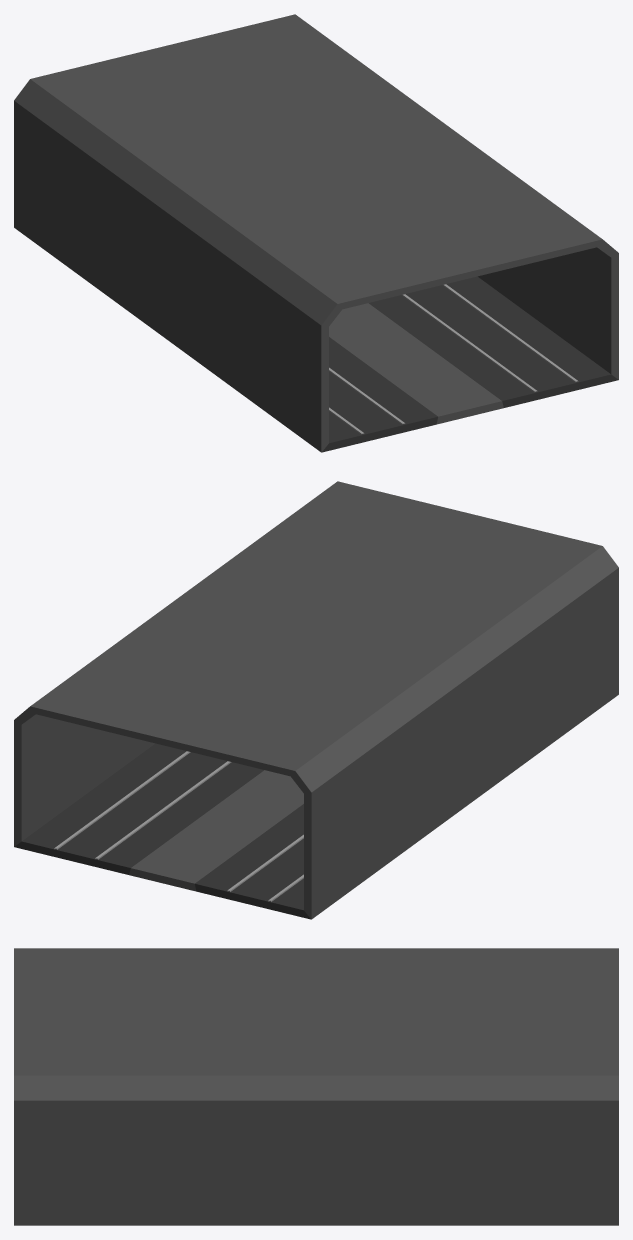
File: SM_Floor_Metro_09.fbx
3 views of the same model, one above another, from view 1: azimuth 30°, elevation 25°; view 2: azimuth 150°, elevation 25°; view 3: azimuth 270°, elevation 25° (orthographic).
Visible parts, largest first — view 1: SM_Floor_Metro_09; view 2: SM_Floor_Metro_09; view 3: SM_Floor_Metro_09.
Boxes of the visible parts, box(x1,y1,x2,y2) form: SM_Floor_Metro_09: box(14, 14, 618, 452); SM_Floor_Metro_09: box(14, 481, 618, 919); SM_Floor_Metro_09: box(14, 948, 618, 1225).
Bounding box in the file's own units: 11.17 × 5.19 × 20.
